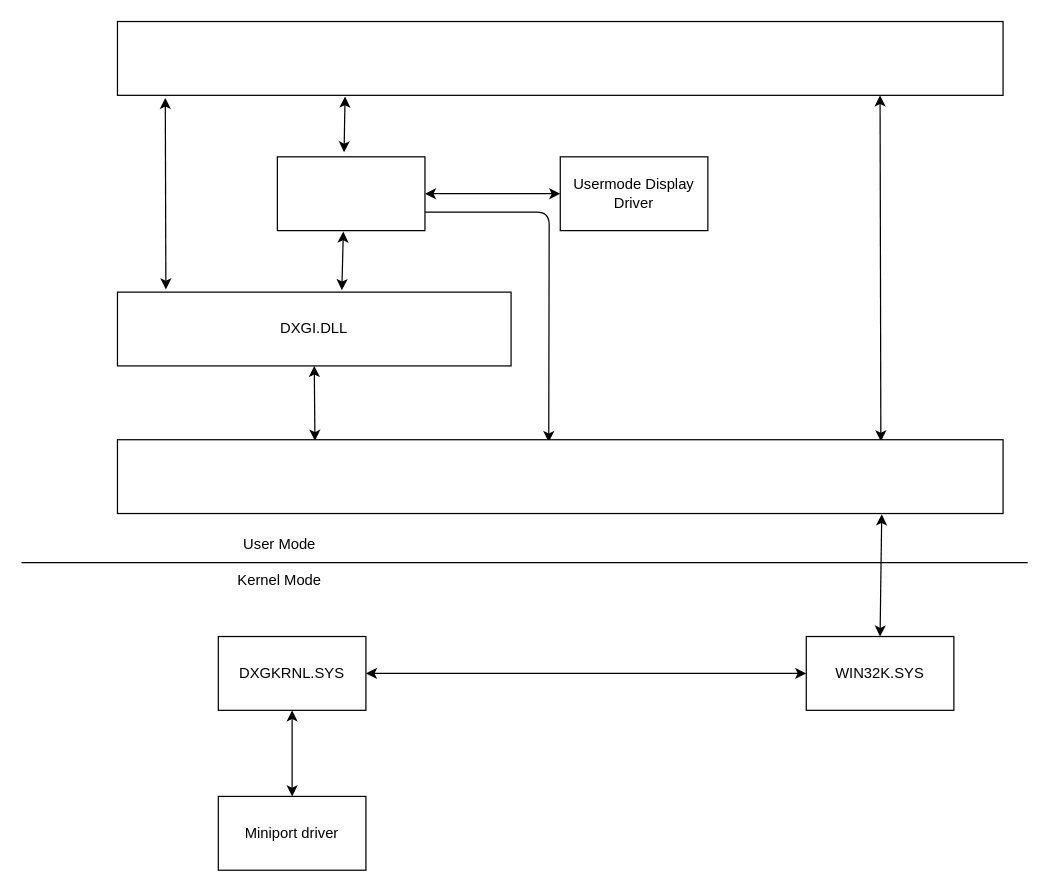
Image size: 1050x892. Some labels were removed from this diagram. Each missing label, with the box of its shape:
Application: (116, 20, 1003, 95)
D3D10.DLL (or D3D11.DLL): (276, 156, 425, 231)
GDI32.DLL: (116, 438, 1003, 514)
